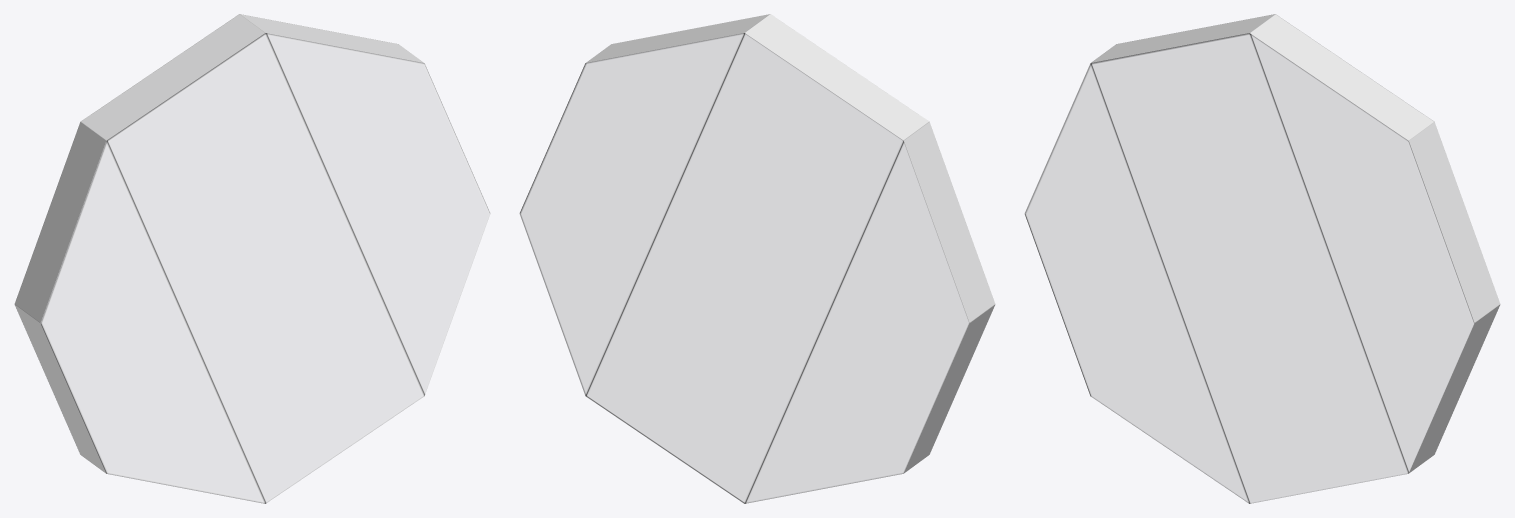
File: nodeHatch.glb
3 views of the same model, side by side, from view 1: azimuth 30°, elevation 25°; view 2: azimuth 150°, elevation 25°; view 3: azimuth 330°, elevation 25° (orthographic).
Visible parts, largest first — view 1: Hatch; view 2: Hatch; view 3: Hatch.
Boxes of the visible parts, x1,y1,x2,y2 form: Hatch: [14, 14, 490, 503]; Hatch: [519, 14, 995, 503]; Hatch: [1024, 14, 1500, 503].
Bounding box in the file's own units: 5 × 5 × 0.5.
1 material, 1 textured.
